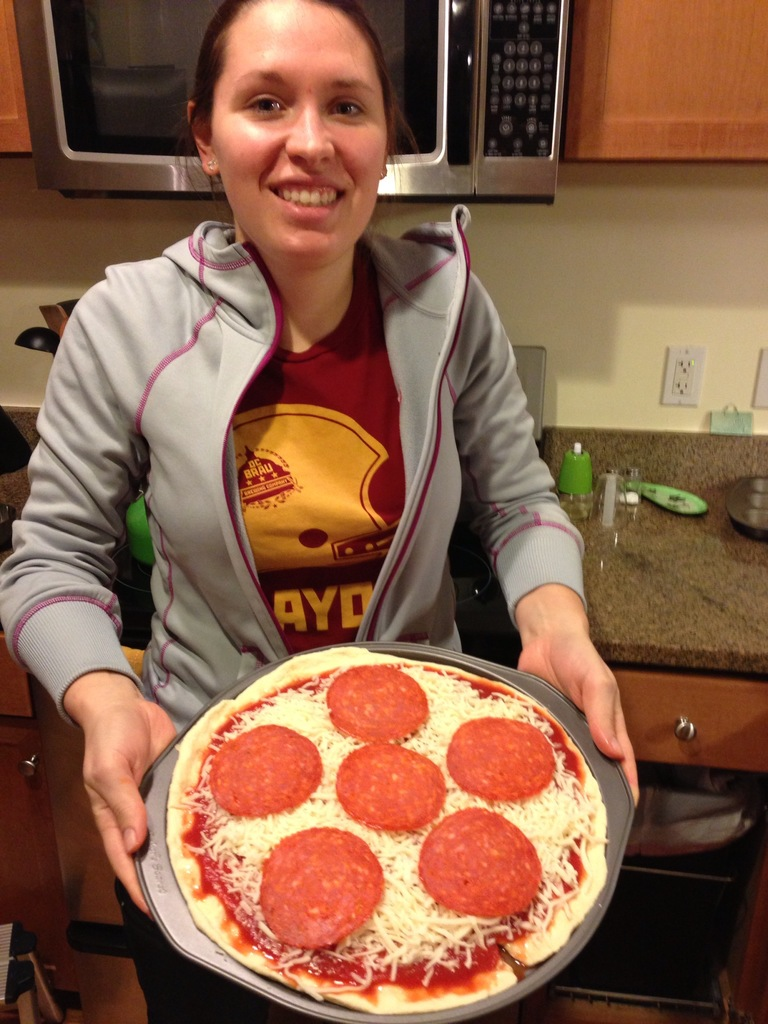Pizza: (173, 654, 600, 997)
